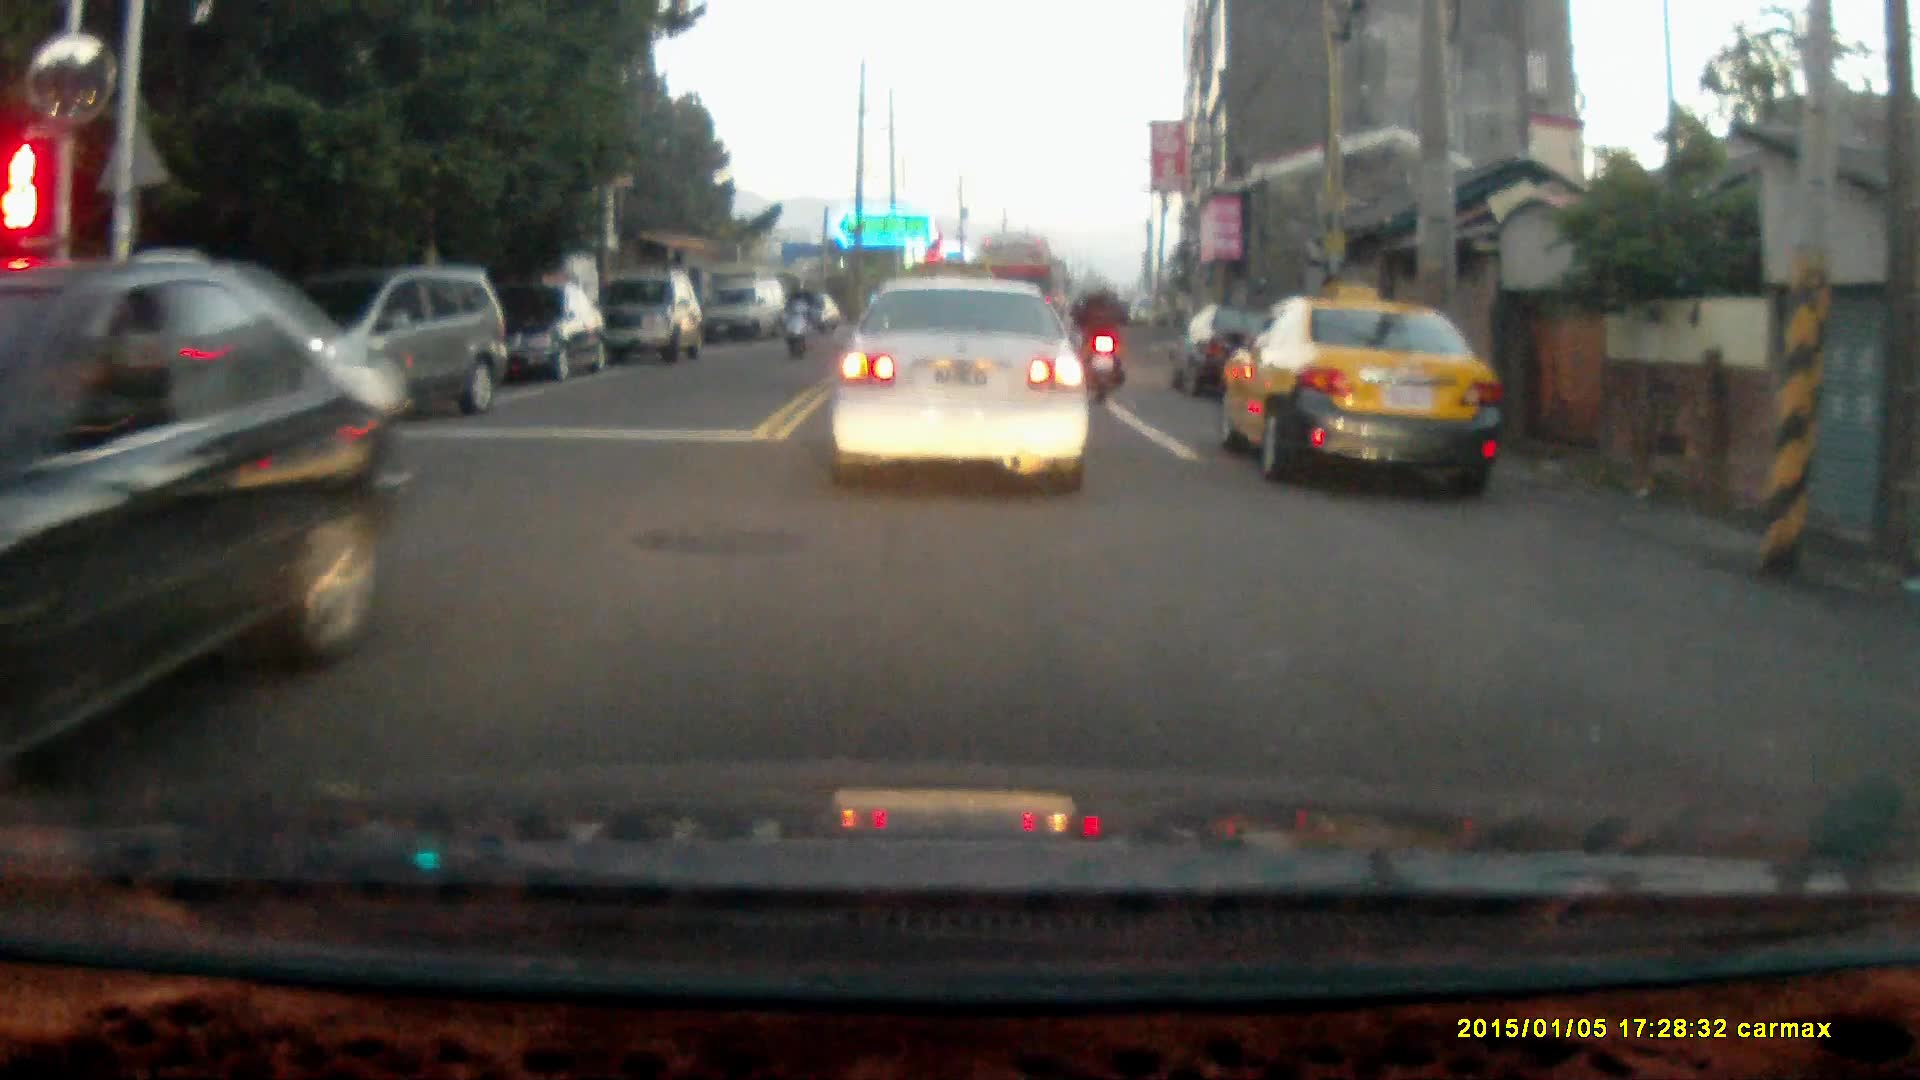rider: (1070, 273, 1129, 406), (780, 273, 815, 358)
vehicle: (1, 273, 405, 786), (826, 285, 1102, 499), (1224, 296, 1505, 502), (473, 277, 607, 379), (597, 273, 701, 369), (709, 274, 791, 344)
